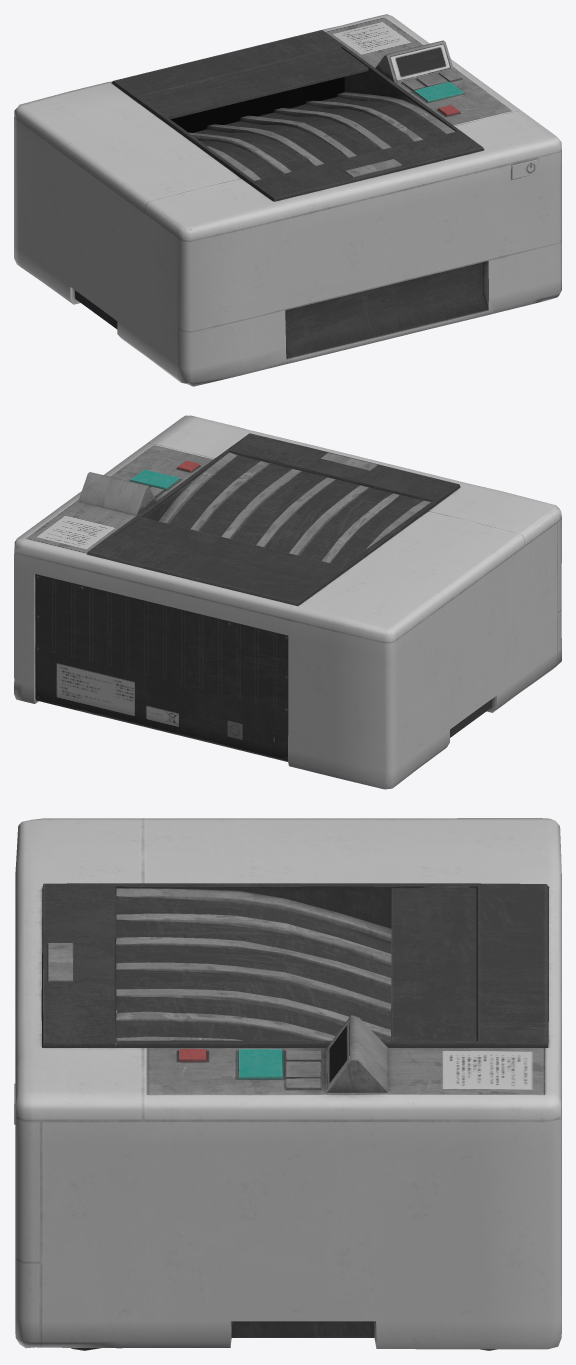
Rendered from generic-printer.glb.
3 views of the same model, one above another, from view 1: azimuth 30°, elevation 25°; view 2: azimuth 150°, elevation 25°; view 3: azimuth 270°, elevation 25° (orthographic). The views are drawn at different scales.
Visible parts, largest first — view 1: RetopoGroup1, RetopoGroup2; view 2: RetopoGroup1, RetopoGroup2; view 3: RetopoGroup1, RetopoGroup2.
Boxes of the visible parts, x1,y1,x2,y2 form: RetopoGroup1: (14, 14, 561, 386); RetopoGroup2: (345, 44, 538, 179); RetopoGroup1: (14, 415, 561, 789); RetopoGroup2: (115, 452, 377, 497); RetopoGroup1: (15, 818, 561, 1349); RetopoGroup2: (14, 943, 349, 1124).
Bounding box in the file's own units: 200 × 95.57 × 160.
Materials: 1 (1 with a texture image).
